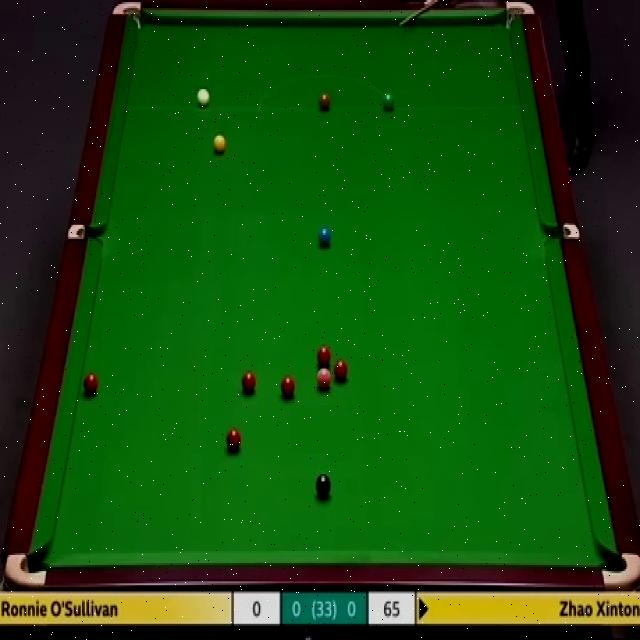black-ball: (314, 474, 332, 497)
blue-ball: (318, 228, 332, 246)
brown-ball: (318, 88, 331, 110)
green-ball: (381, 93, 394, 111)
pink-ball: (317, 368, 332, 392)
red-ball: (226, 427, 242, 454), (241, 370, 256, 394), (82, 373, 98, 395), (333, 358, 347, 383), (280, 375, 294, 397), (317, 345, 331, 365)
white-ball: (198, 86, 210, 106)
yellow-ball: (213, 132, 227, 158)
